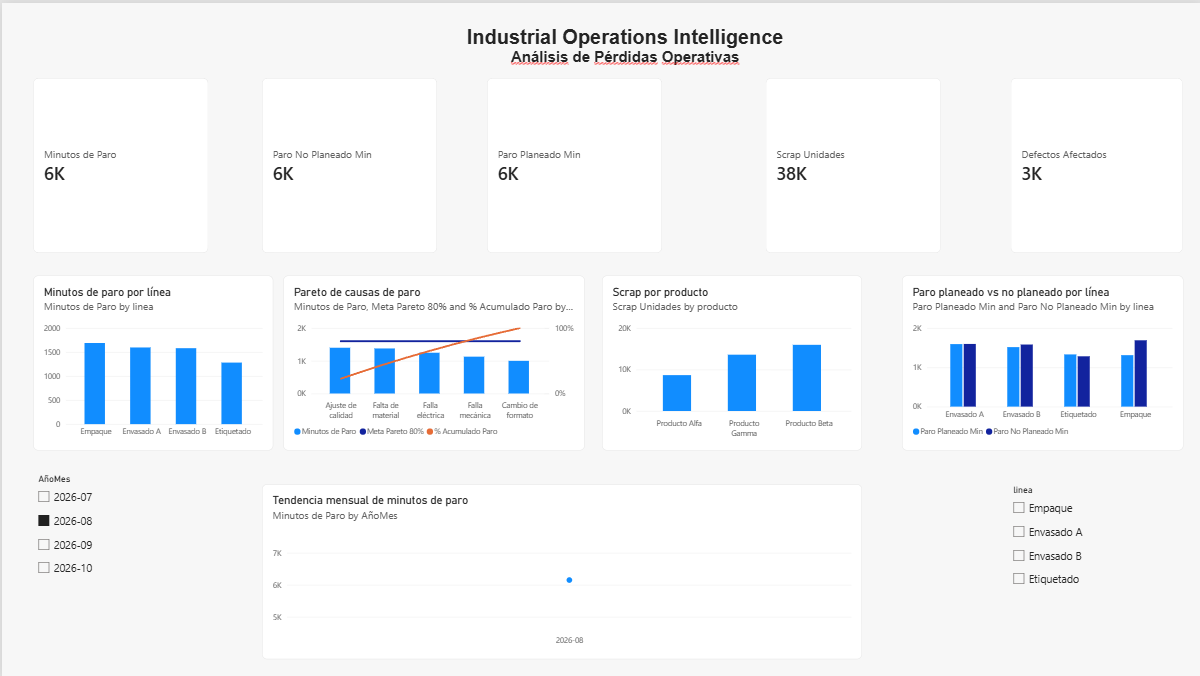

This screenshot's page, from the dashboard's own definition file:
{"tool":"powerbi","page":{"name":"Análisis de Pérdidas","canvas":[1920,1080],"ordinal":5},"visuals":[{"type":"cardVisual","fields":{"Data":["Medidas.Minutos de Paro"]},"box":[50,120,280,280],"z":0},{"type":"cardVisual","fields":{"Data":["Medidas.Defectos Afectados"]},"box":[1614,120,275,280],"z":1000},{"type":"cardVisual","fields":{"Data":["Medidas.Paro Planeado Min"]},"box":[776,120,280,280],"z":2000},{"type":"cardVisual","fields":{"Data":["Medidas.Paro No Planeado Min"]},"box":[416,120,280,280],"z":3000},{"type":"cardVisual","fields":{"Data":["Medidas.Scrap Unidades"]},"box":[1222,120,280,280],"z":4000},{"type":"slicer","fields":{"Values":["DimFecha.AñoMes"]},"box":[50,752,280,280],"z":5000},{"type":"slicer","fields":{"Values":["DimLinea.linea"]},"box":[1610,770,280,280],"z":6000},{"type":"lineClusteredColumnComboChart","title":"Pareto de causas de paro","fields":{"Category":["T_Paros.causa"],"Y":["Medidas.Minutos de Paro"],"Y2":["Medidas.Meta Pareto 80%","Medidas.% Acumulado Paro"]},"box":[450,436,482,280],"z":7000},{"type":"clusteredColumnChart","title":"Minutos de paro por línea","fields":{"Category":["DimLinea.linea"],"Y":["Medidas.Minutos de Paro"]},"box":[50,436,384,280],"z":8000},{"type":"clusteredColumnChart","title":"Paro planeado vs no planeado por línea","fields":{"Category":["DimLinea.linea"],"Y":["Medidas.Paro Planeado Min","Medidas.Paro No Planeado Min"]},"box":[1440,436,450,280],"z":9000},{"type":"clusteredColumnChart","title":"Scrap por producto","fields":{"Category":["DimProducto.producto"],"Y":["Medidas.Scrap Unidades"]},"box":[960,436,416,280],"z":10000},{"type":"lineChart","title":"Tendencia mensual de minutos de paro","fields":{"Category":["DimFecha.AñoMes"],"Y":["Medidas.Minutos de Paro"]},"box":[416,770,960,280],"z":11000},{"type":"textbox","box":[350,36,1294,84],"z":12002}]}

Visuals, with their boxes in screenshot pixels (x1, y1, x2, y2), scaled from the page's 1920x1080 canvas onto the 1200x676 screenshot:
cardVisual - Medidas.Minutos de Paro: 31 75 206 250
cardVisual - Medidas.Defectos Afectados: 1009 75 1181 250
cardVisual - Medidas.Paro Planeado Min: 485 75 660 250
cardVisual - Medidas.Paro No Planeado Min: 260 75 435 250
cardVisual - Medidas.Scrap Unidades: 764 75 939 250
slicer - DimFecha.AñoMes: 31 471 206 646
slicer - DimLinea.linea: 1006 482 1181 657
"Pareto de causas de paro" lineClusteredColumnComboChart: 281 273 582 448
"Minutos de paro por línea" clusteredColumnChart: 31 273 271 448
"Paro planeado vs no planeado por línea" clusteredColumnChart: 900 273 1181 448
"Scrap por producto" clusteredColumnChart: 600 273 860 448
"Tendencia mensual de minutos de paro" lineChart: 260 482 860 657
textbox: 219 23 1028 75
